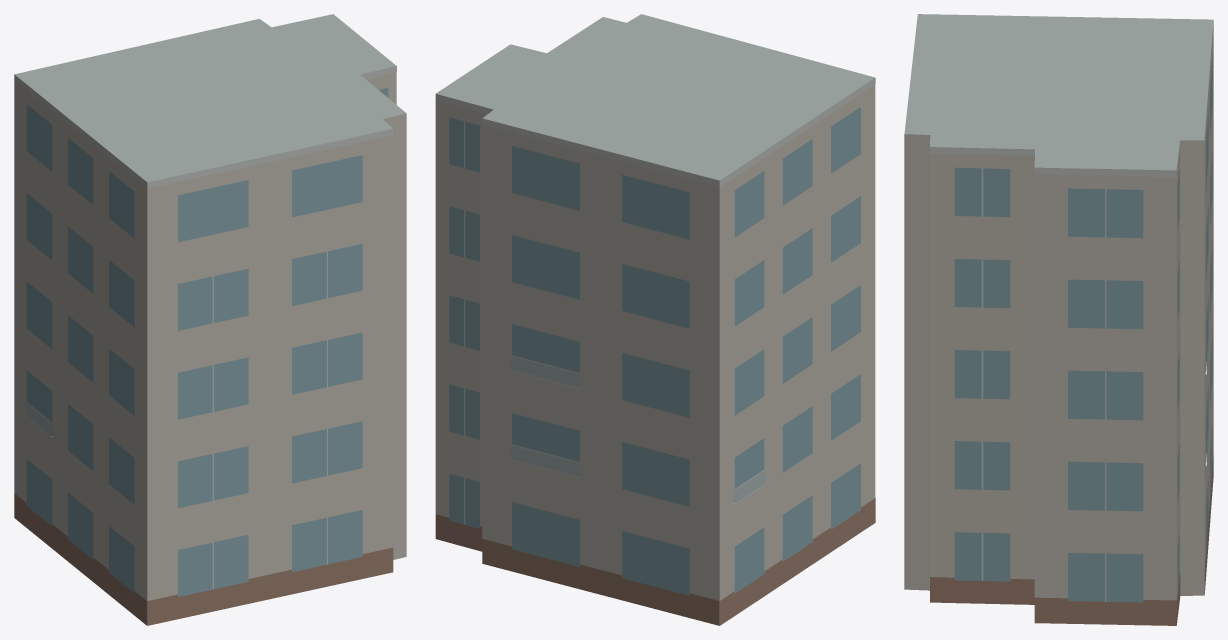
File: survey-upis-32689617.glb
The picture shows the model from 3 angles, left to right: view 1: azimuth 30°, elevation 25°; view 2: azimuth 150°, elevation 25°; view 3: azimuth 270°, elevation 25°; orthographic projection. The views are drawn at different scales.
Parts seen in each view (by area): view 1: survey-upis-32689617.tmp; view 2: survey-upis-32689617.tmp; view 3: survey-upis-32689617.tmp.
Boxes of the visible parts, x1,y1,x2,y2 form: survey-upis-32689617.tmp: [14, 14, 406, 625]; survey-upis-32689617.tmp: [435, 14, 875, 625]; survey-upis-32689617.tmp: [904, 14, 1213, 625].
Bounding box in the file's own units: 12.45 × 16.9 × 10.41.
